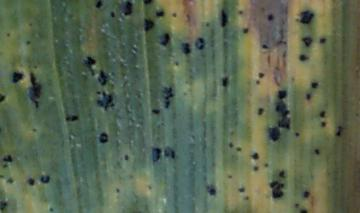tarspot: (27, 70, 41, 109), (96, 91, 115, 113), (277, 100, 290, 129), (83, 55, 98, 76), (269, 180, 284, 198), (266, 125, 281, 142), (120, 1, 134, 17), (298, 10, 313, 24), (164, 87, 173, 110), (98, 69, 110, 86), (219, 8, 229, 28), (163, 146, 176, 159), (143, 18, 154, 33), (180, 40, 190, 56), (11, 71, 23, 83), (161, 34, 171, 48), (195, 38, 206, 50), (99, 131, 109, 144), (302, 35, 312, 48), (65, 114, 79, 123), (154, 7, 165, 18), (39, 174, 51, 184), (151, 149, 161, 161), (297, 53, 308, 63), (221, 75, 229, 88), (277, 90, 287, 100), (2, 154, 13, 163), (278, 168, 287, 179), (1, 201, 9, 213), (94, 1, 104, 10), (152, 108, 162, 117), (207, 188, 217, 197), (335, 125, 342, 137), (302, 190, 311, 199), (27, 176, 35, 186), (252, 151, 260, 160), (1, 92, 6, 105), (310, 81, 318, 89), (318, 37, 327, 44), (261, 43, 270, 50), (257, 106, 264, 115), (6, 177, 14, 184), (171, 11, 178, 19), (30, 126, 38, 133), (242, 27, 249, 35), (267, 13, 274, 21), (314, 148, 321, 156), (234, 146, 242, 153), (252, 164, 259, 172), (140, 1, 153, 5), (298, 208, 308, 213), (173, 60, 180, 67), (320, 121, 327, 128), (227, 173, 234, 180), (2, 163, 10, 169), (47, 207, 55, 213), (257, 72, 265, 78), (306, 92, 312, 100), (294, 130, 300, 138), (25, 39, 32, 45), (5, 31, 11, 38), (110, 11, 116, 18), (114, 187, 120, 194), (203, 21, 210, 27), (238, 9, 244, 16), (318, 111, 325, 117), (228, 141, 234, 148), (238, 187, 245, 193), (244, 195, 250, 202), (263, 162, 269, 169), (124, 155, 129, 162), (255, 79, 260, 86), (295, 201, 299, 208), (1, 174, 4, 178)
